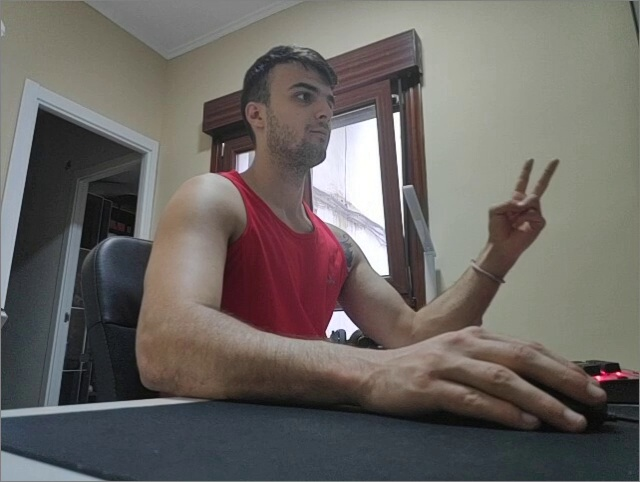Peace: (486, 156, 563, 256)
